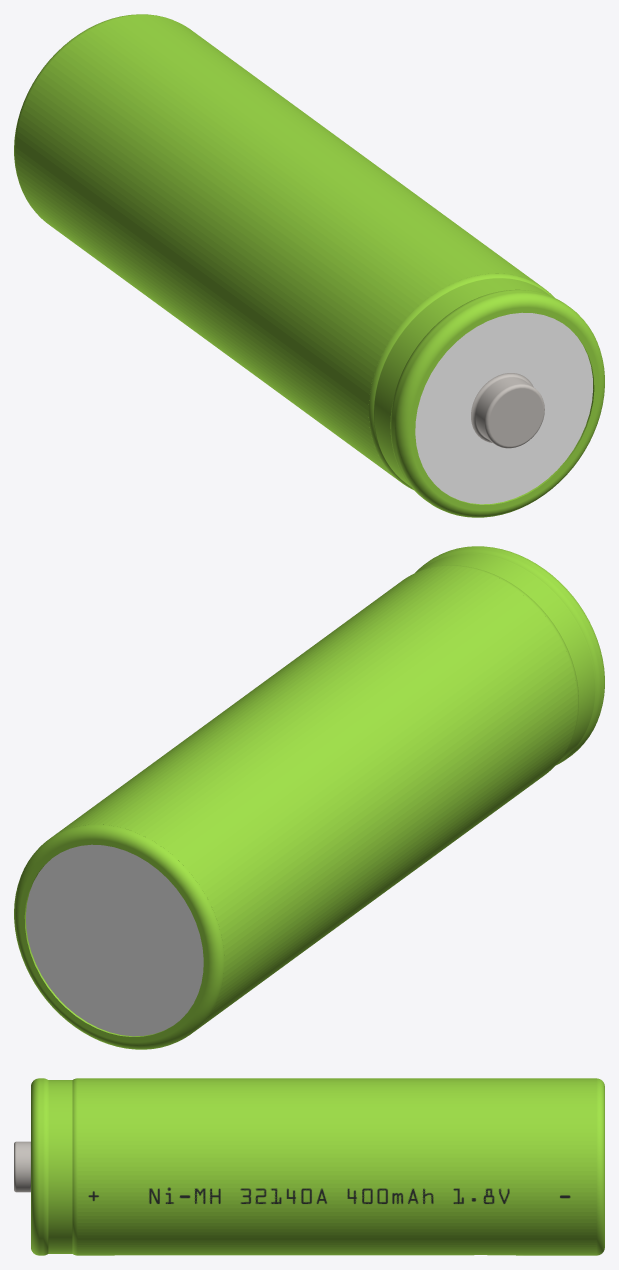
The model's file is defect_3.glb.
3 renders of one model, top to bottom at view 1: azimuth 30°, elevation 25°; view 2: azimuth 150°, elevation 25°; view 3: azimuth 270°, elevation 25°, orthographic. The views are drawn at different scales.
Parts seen in each view (by area): view 1: Cylinder, Cell_Top; view 2: Cylinder, Cell_bottom, Cell_Top; view 3: Cylinder, Cell_Top, Cell_bottom.
Part boxes in pixels (box(x1,y1,x2,y2)): Cylinder: box(15, 15, 550, 480); Cell_Top: box(368, 273, 604, 517); Cylinder: box(41, 566, 577, 1031); Cell_bottom: box(14, 824, 224, 1049); Cell_Top: box(415, 546, 604, 765); Cylinder: box(77, 1078, 596, 1255); Cell_Top: box(14, 1078, 77, 1255); Cell_bottom: box(596, 1078, 604, 1255).
Size of the model in its own units: 0.021 by 0.021 by 0.07.
Materials: 10 (1 with a texture image).
